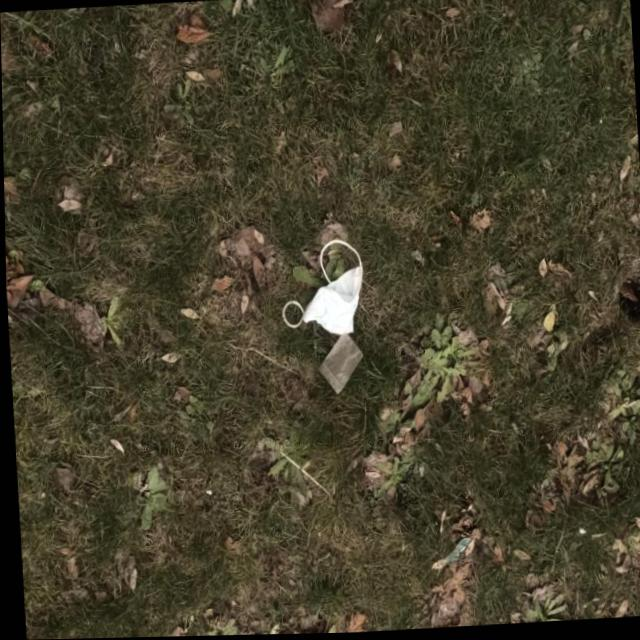Mask: (275, 236, 365, 339)
